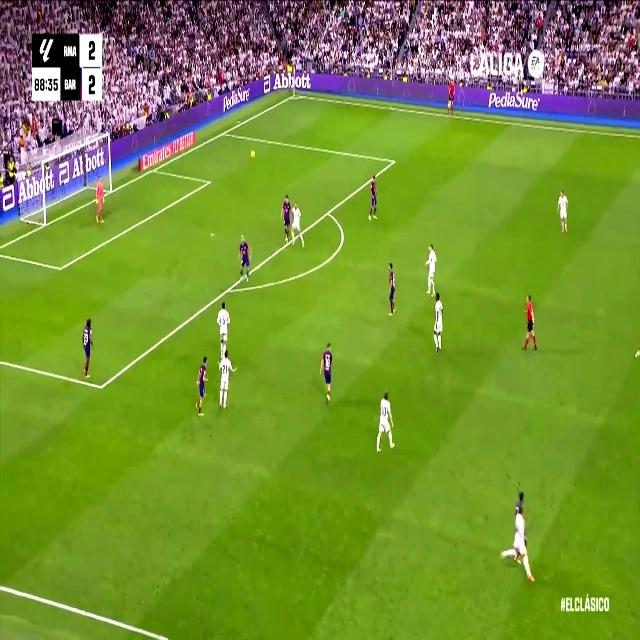bigarea_bottom_inner: (96, 375, 106, 398)
bigarea_top_inner: (390, 154, 396, 168)
bigarea_top_outter: (221, 127, 227, 138)
bottom_arc_area_intersection: (225, 280, 233, 298)
corner: (292, 92, 296, 98)
smallarea_top_inner: (206, 175, 211, 187)
top_arc_area_intersection: (325, 204, 332, 220)
